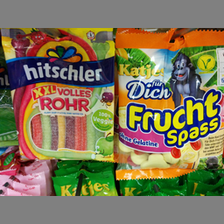candy: (115, 28, 224, 178), (2, 28, 114, 161)
